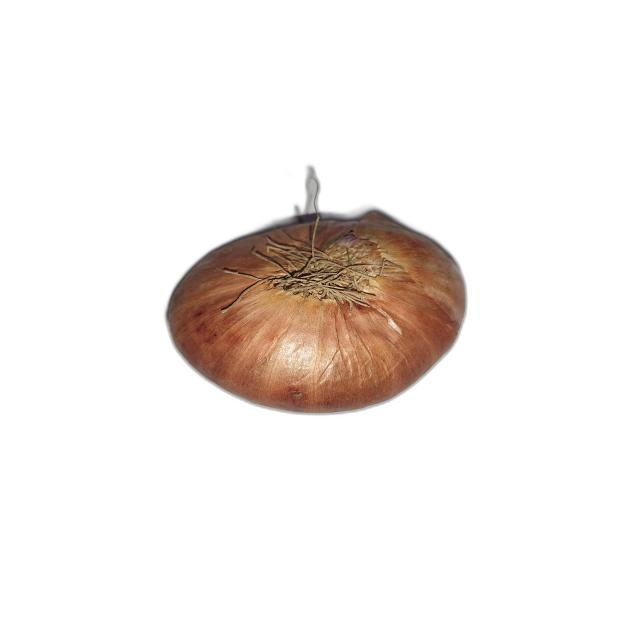onion: (164, 174, 469, 416)
